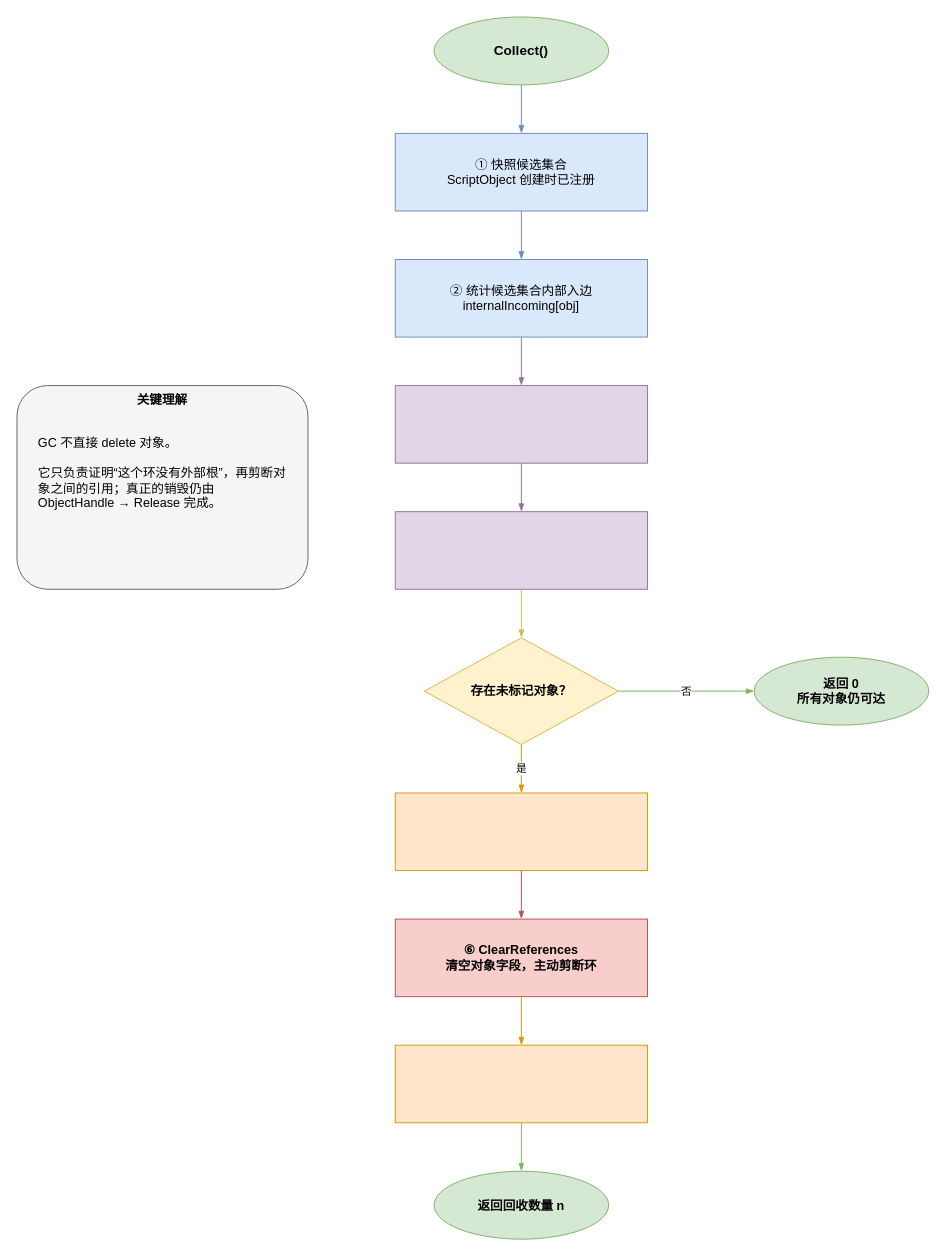
This 946x1256 diagram has some shape labels left out. Here are the shapes that lost their labels. From the top down, the centre of each, then its label:
pixel 520 424: ③ 找外部根 real RefCount > internalIncoming
pixel 520 550: ④ 从外部根做图遍历 标记所有可达候选对象
pixel 520 831: ⑤ 临时 AddRef 先给垃圾对象系上安全绳
pixel 520 1083: ⑦ Release 临时引用 回到普通引用计数析构路径
